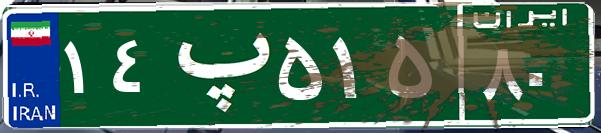0: (525, 38, 570, 115)
1: (330, 28, 385, 110), (57, 26, 110, 107)
4: (110, 28, 158, 105)
5: (385, 28, 445, 110), (273, 28, 330, 110)
8: (475, 38, 525, 113)
پ: (158, 15, 273, 115)
